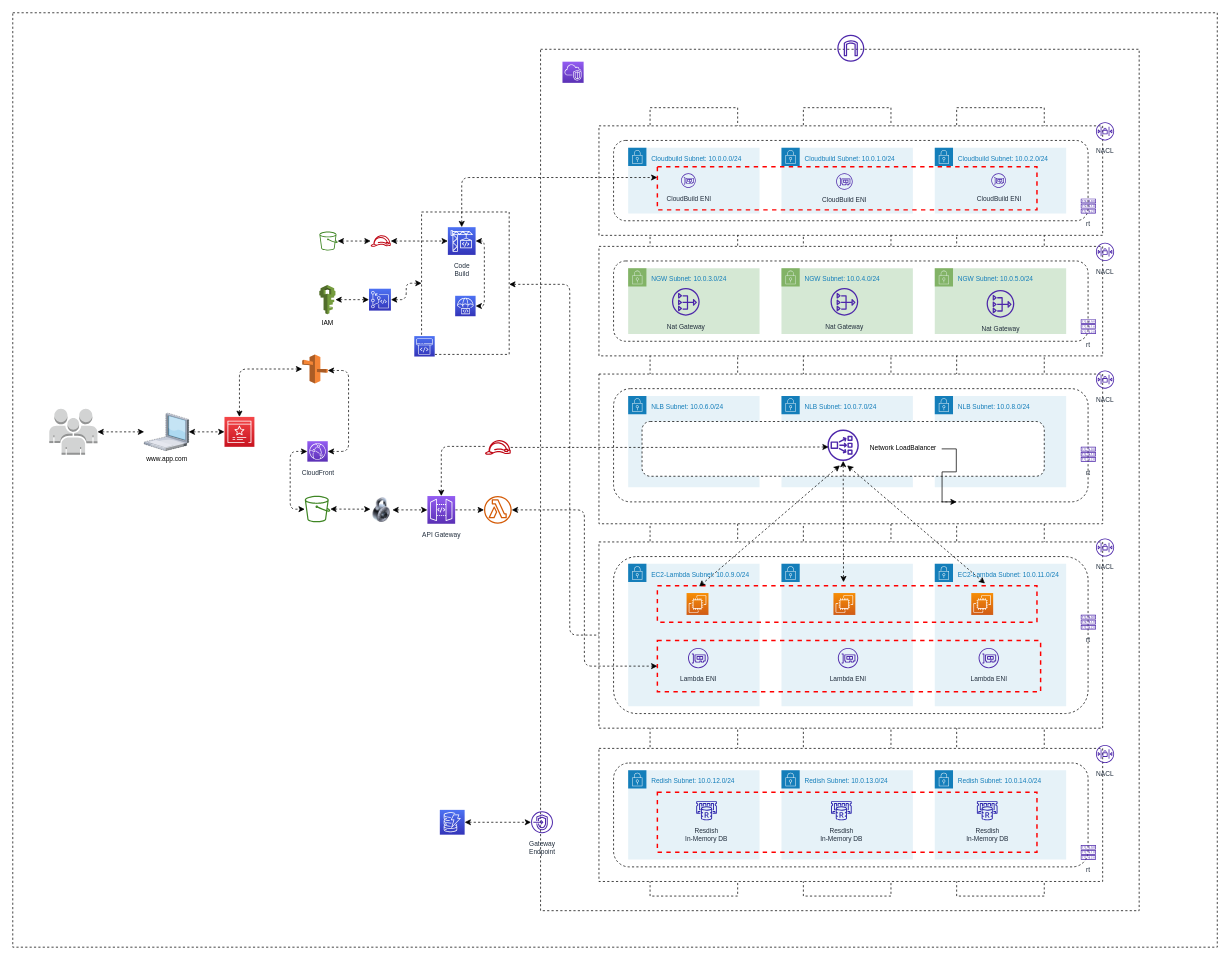
Some shapes in this 1230 by 960 pixel diagram are drawn without their labels. The shapes that lost their labels are listed below. From the top down, each one's box as (x1, y1, x2, y2) in pixels, then its label:
(837, 34, 864, 61): IGW
(562, 61, 584, 83): VPC 10.0.0.0/16
(319, 231, 337, 250): s3
(368, 288, 391, 311): Code Commit
(454, 295, 476, 316): Code Deploy
(414, 335, 435, 357): Code Pipeline
(301, 354, 328, 384): Route53
(49, 408, 97, 455): Client
(224, 416, 254, 447): ACM
(484, 440, 511, 454): IAM Role
(304, 495, 330, 522): Static Website
(370, 497, 392, 522): API Key
(484, 496, 511, 523): Lambda Function
(781, 563, 913, 706): EC2-Lambda Subnet: 10.0.10.0/24
(439, 809, 465, 835): Dynamo DB
